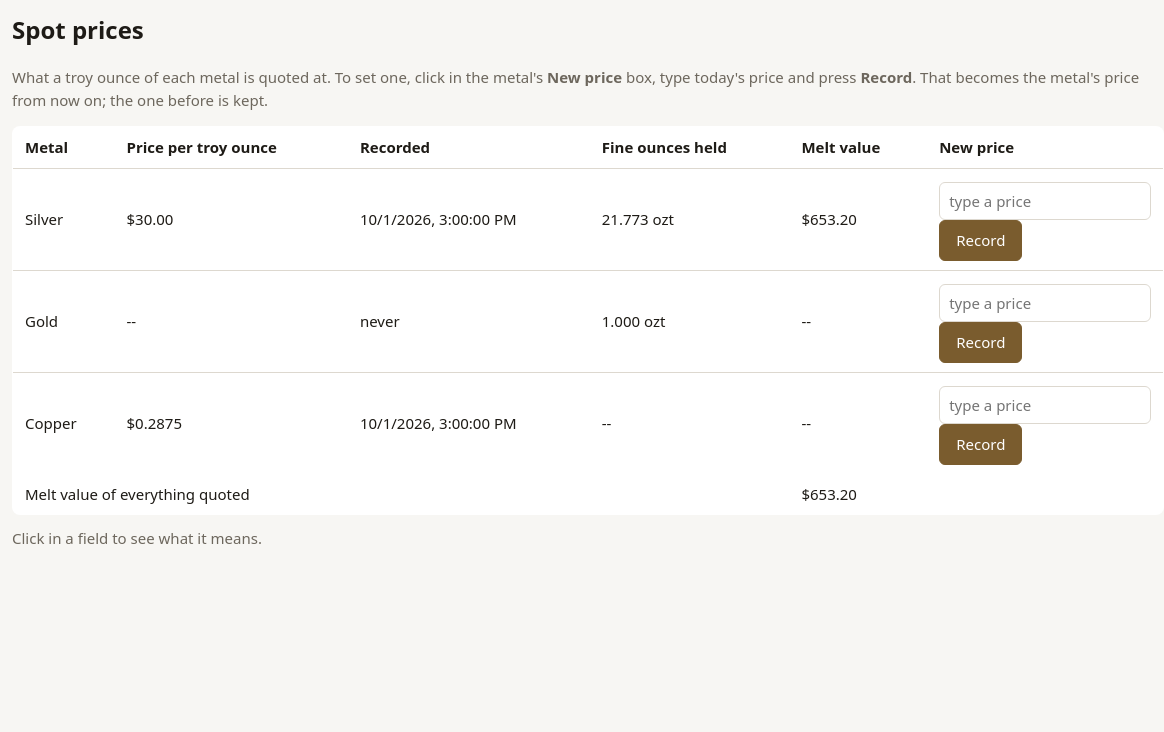
Test: SpotPrices › records a new price and shows the table the server answers with
Expected: the table named "Spot prices" is shown, [12,126,1163,515]
Type " 2650 " into the field named "New price for Gold" at (1045, 303), box [939,284,1151,322]
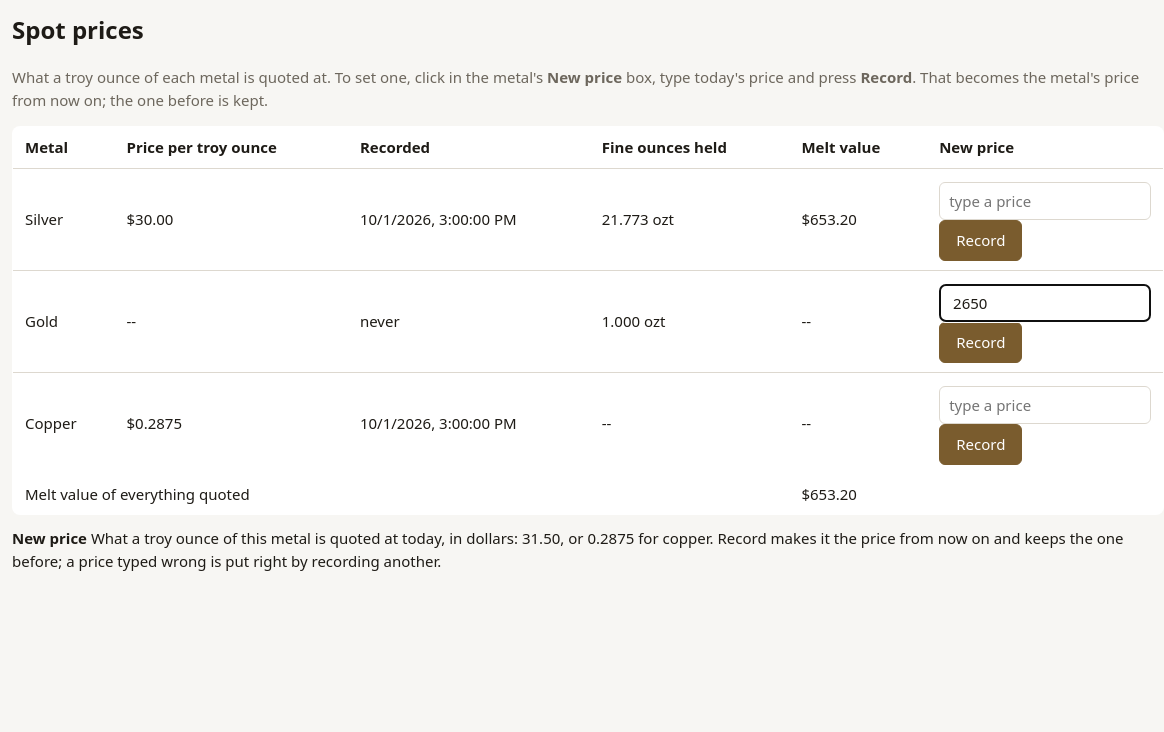
Click the button "Record" in the row of "Gold" at (981, 342), box [939,322,1022,362]
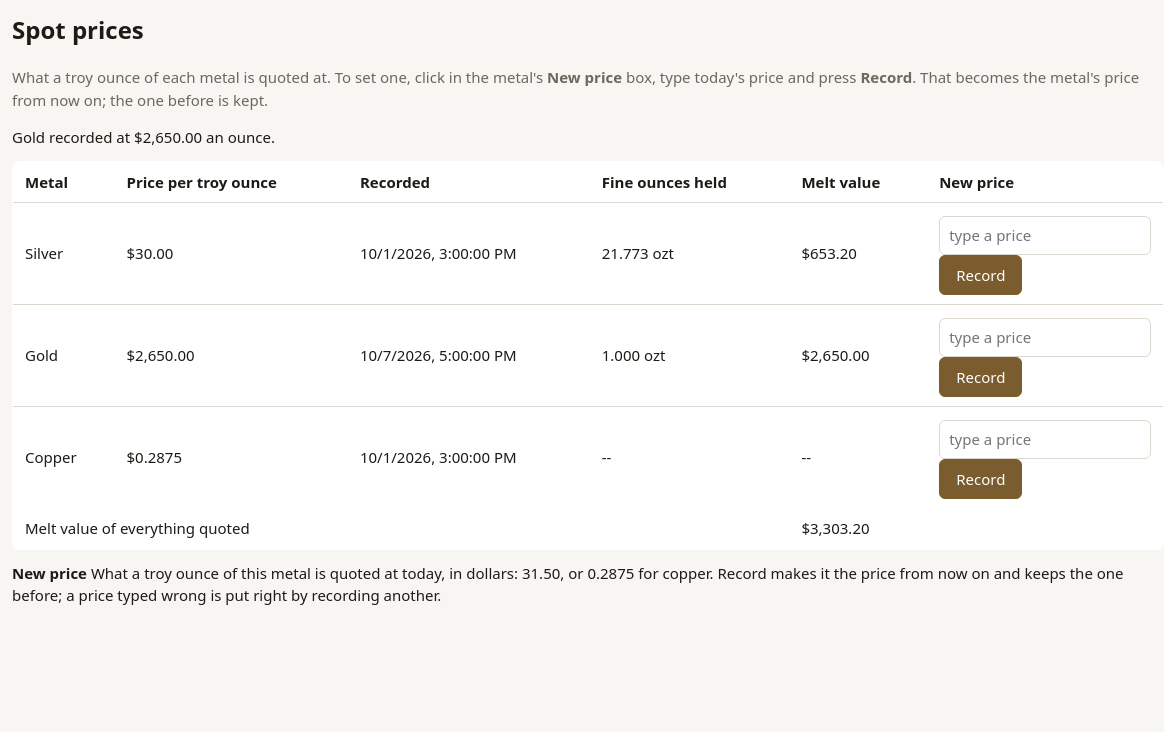
Now the field named "New price for Gold" is empty, box [939,318,1151,356]
Now the text "Gold recorded at $2,650.00 an ounce." is shown, box [12,127,275,147]
